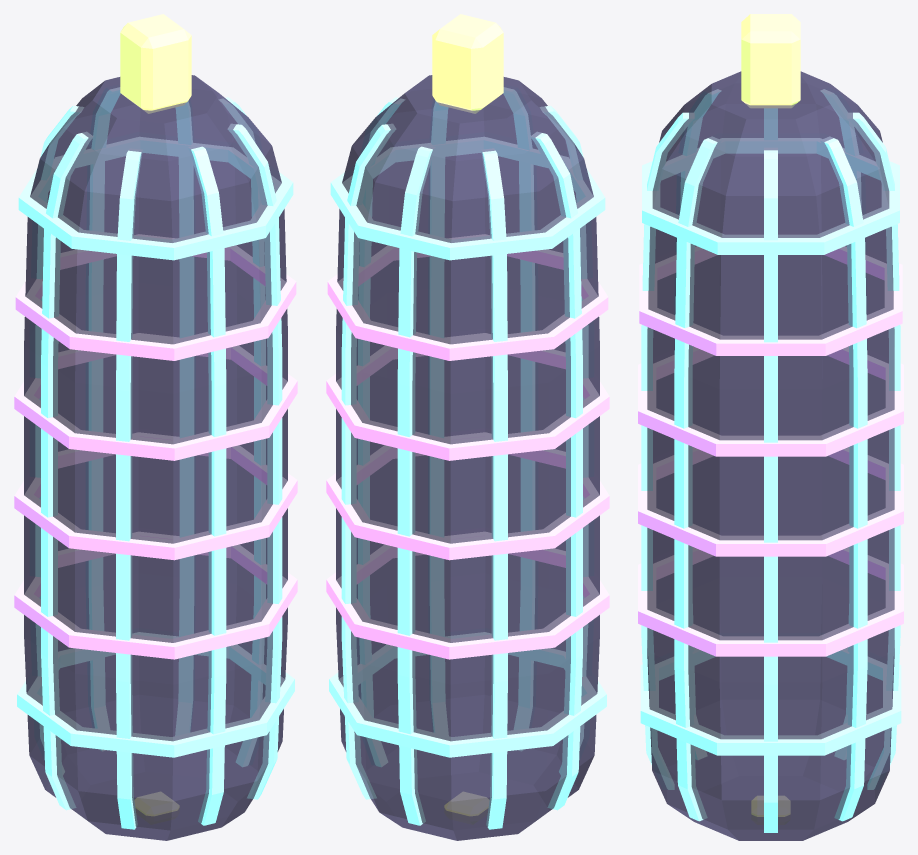
Rendered from NeonGridCucumber.fbx.
The picture shows the model from 3 angles, left to right: view 1: azimuth 30°, elevation 25°; view 2: azimuth 150°, elevation 25°; view 3: azimuth 270°, elevation 25°; orthographic projection.
Parts seen in each view (by area): view 1: NeonGridCucumber.Body, NeonGridCucumber.GridCyan, NeonGridCucumber.GridPurple, NeonGridCucumber.Lime; view 2: NeonGridCucumber.Body, NeonGridCucumber.GridCyan, NeonGridCucumber.GridPurple, NeonGridCucumber.Lime; view 3: NeonGridCucumber.Body, NeonGridCucumber.GridCyan, NeonGridCucumber.GridPurple, NeonGridCucumber.Lime.
Boxes of the visible parts, left/top/right/bottom form: NeonGridCucumber.Body: left=24, top=75, right=287, bottom=840; NeonGridCucumber.GridCyan: left=17, top=87, right=294, bottom=829; NeonGridCucumber.GridPurple: left=14, top=234, right=297, bottom=659; NeonGridCucumber.Lime: left=120, top=14, right=191, bottom=816; NeonGridCucumber.Body: left=336, top=75, right=599, bottom=840; NeonGridCucumber.GridCyan: left=329, top=87, right=606, bottom=829; NeonGridCucumber.GridPurple: left=326, top=234, right=609, bottom=659; NeonGridCucumber.Lime: left=432, top=14, right=503, bottom=816; NeonGridCucumber.Body: left=647, top=71, right=894, bottom=840; NeonGridCucumber.GridCyan: left=640, top=89, right=901, bottom=832; NeonGridCucumber.GridPurple: left=638, top=246, right=903, bottom=656; NeonGridCucumber.Lime: left=741, top=14, right=800, bottom=816.
Size of the model in its own units: 1.35 by 4.46 by 1.35.
